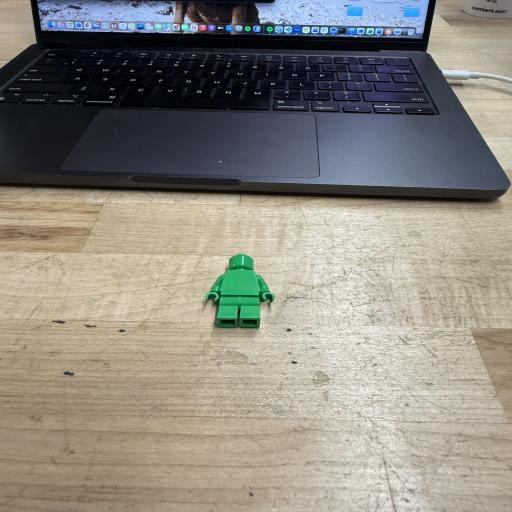green-minifig: (206, 253, 275, 328)
